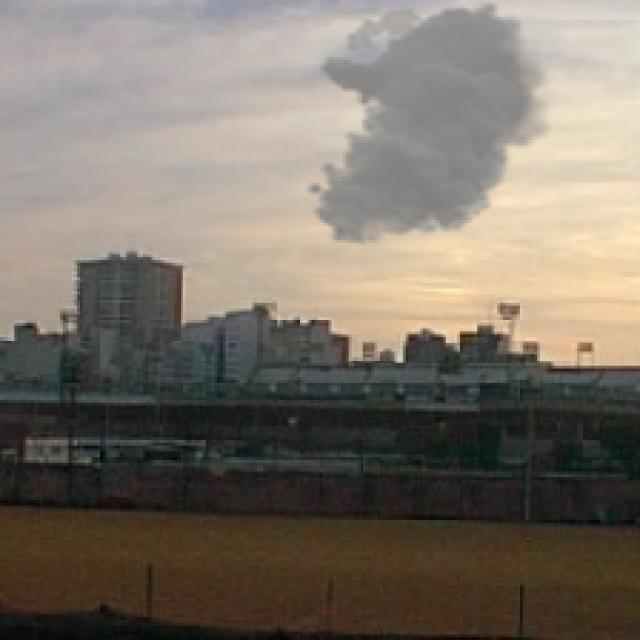smoke: (306, 0, 560, 246)
